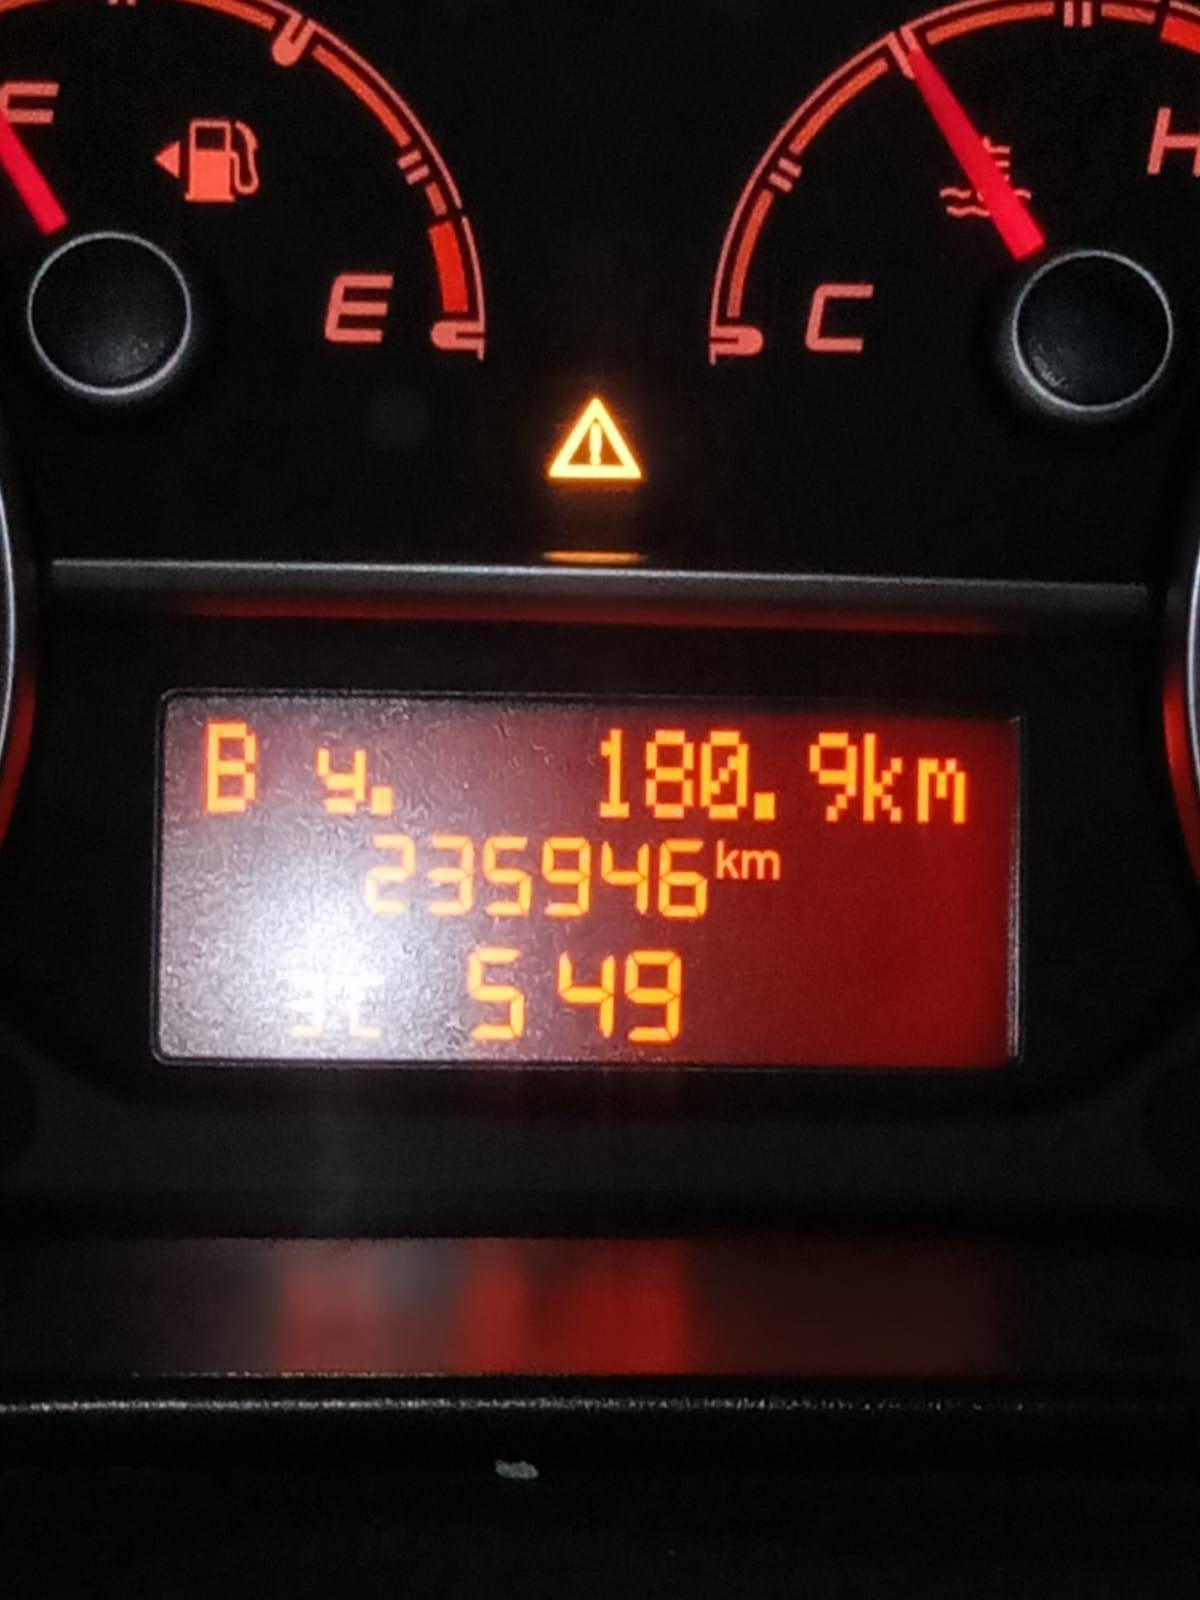,: (750, 787, 778, 826), (367, 785, 396, 819)
0: (698, 728, 750, 823)
1: (594, 726, 633, 821)
2: (361, 830, 418, 916)
3: (418, 833, 476, 918), (282, 966, 330, 1041)
4: (555, 947, 619, 1042), (597, 837, 653, 918)
5: (463, 946, 527, 1041), (479, 831, 534, 918)
6: (654, 837, 708, 921)
8: (643, 726, 696, 823)
9: (621, 947, 684, 1043), (805, 729, 861, 824), (539, 833, 594, 918)
X: (200, 719, 258, 815), (861, 729, 906, 826), (915, 755, 968, 829), (315, 745, 368, 818), (345, 970, 389, 1042), (742, 848, 783, 884), (713, 837, 740, 883)
odometer: (141, 670, 1041, 1086)
